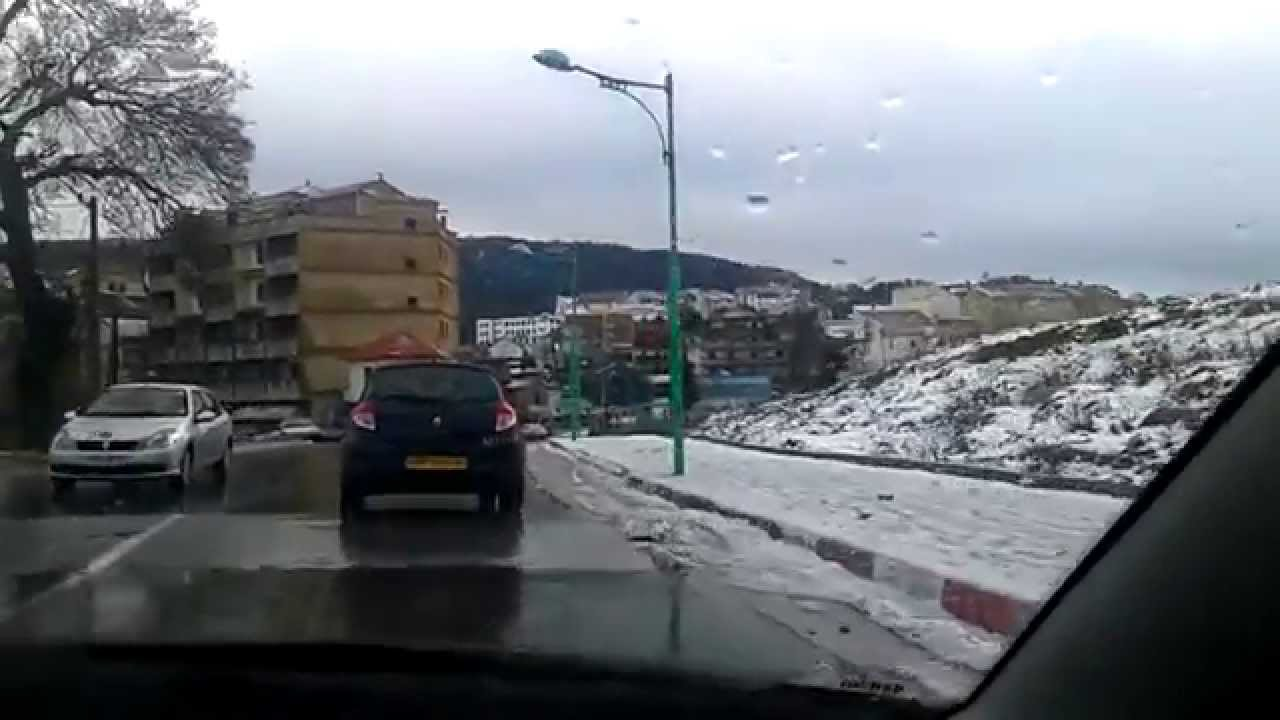sign: (1128, 44, 1198, 115)
